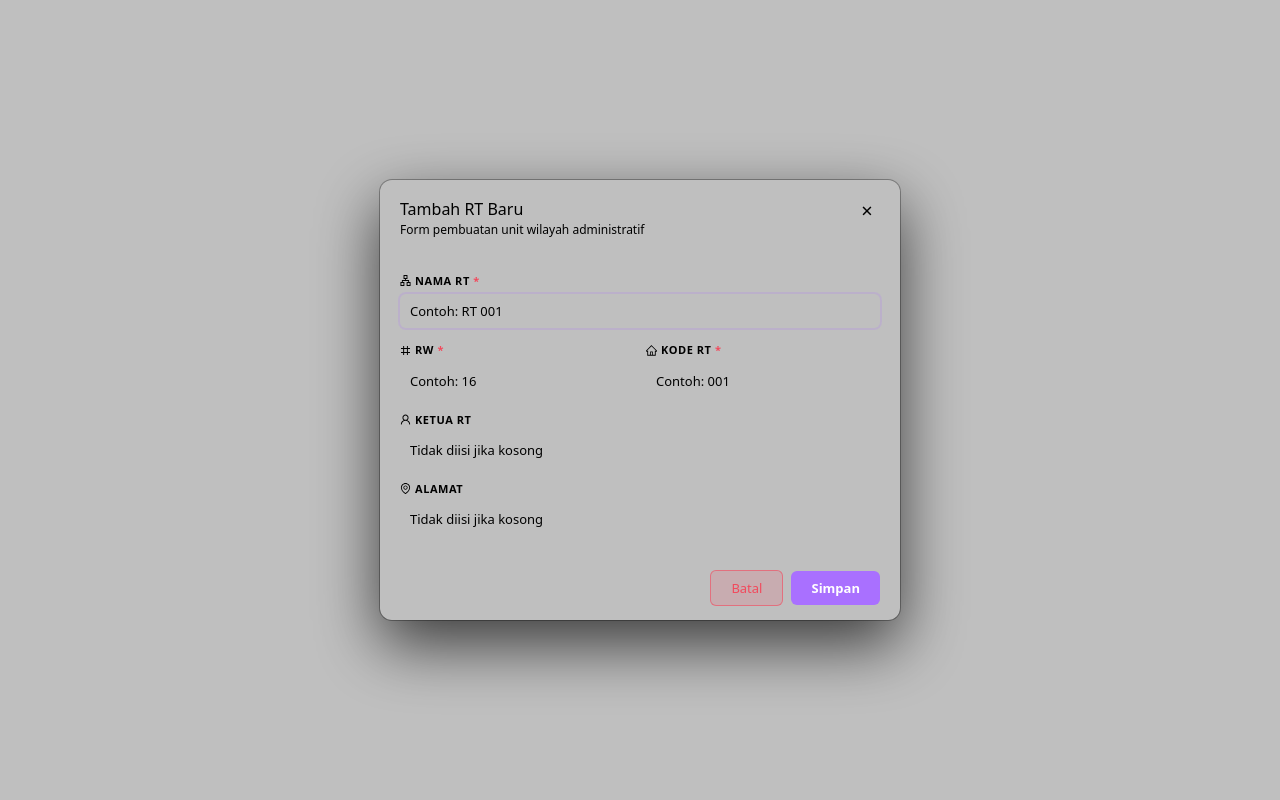
W3.3 — RtCreate form rendering › shows error message from API on 500 server error
Type "RT 001" into the field labelled "Nama RT *" at coordinates (640, 311), box [400,294,880,328]
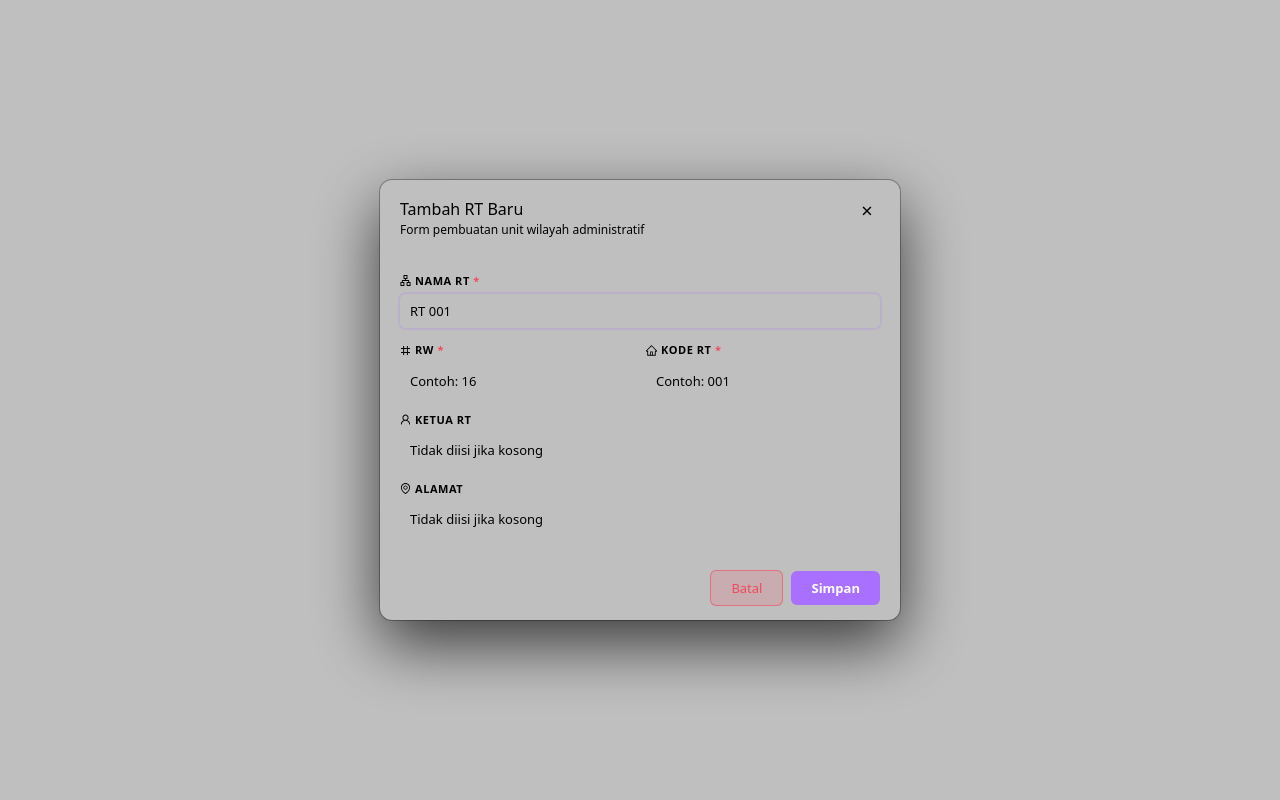
Type "1" into the number field labelled "RW *" at coordinates (517, 381), box [400,364,634,398]
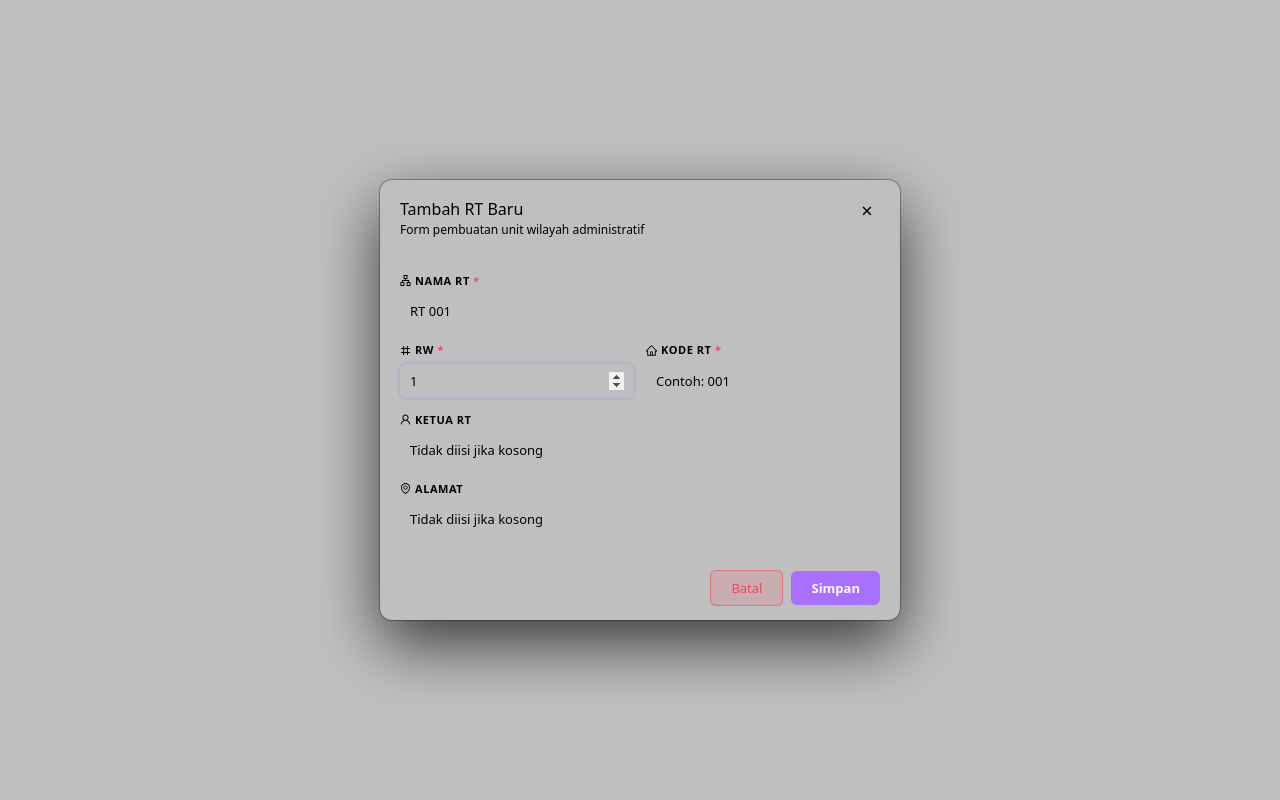
Type "001" into the field labelled "Kode RT *" at coordinates (763, 381), box [646,364,880,398]
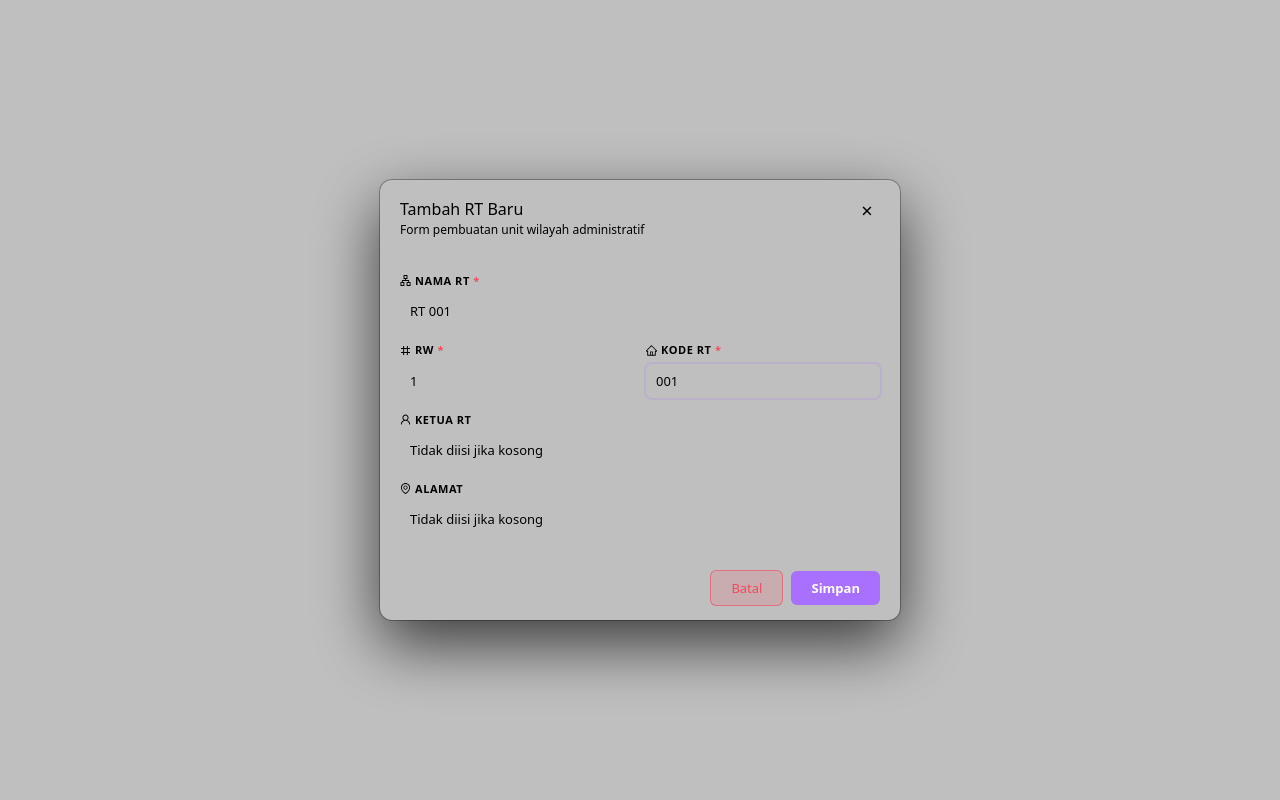
Click the button "Simpan" at coordinates (836, 588), box [792,571,880,605]
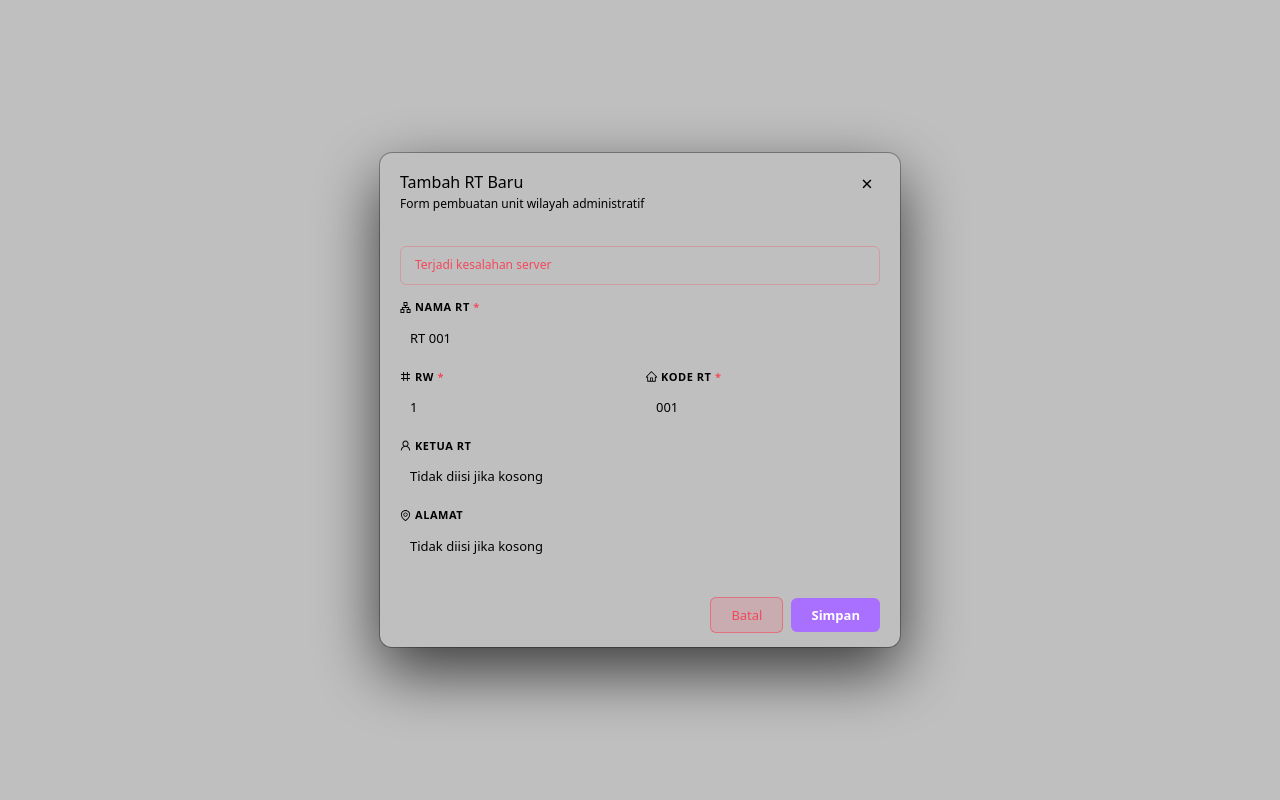
Expected: the text "Terjadi kesalahan server" is shown, [400,246,880,285]
